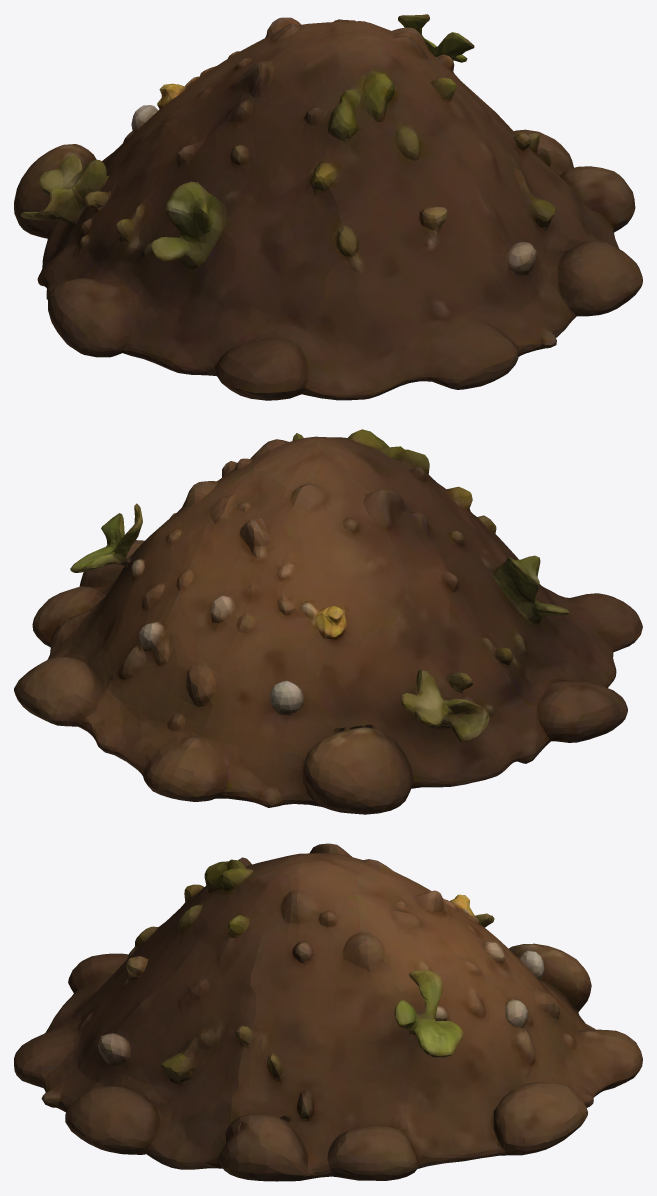
3 views of the same model, one above another, from view 1: azimuth 30°, elevation 25°; view 2: azimuth 150°, elevation 25°; view 3: azimuth 270°, elevation 25° (orthographic). The views are drawn at different scales.
Visible parts, largest first — view 1: world; view 2: world; view 3: world.
Boxes of the visible parts, x1,y1,x2,y2 form: world: (14,14,642,400); world: (14,429,642,814); world: (14,843,642,1181).
Size of the model in its own units: 0.9559 by 0.3962 by 0.9967.
Materials: 1 (1 with a texture image).
